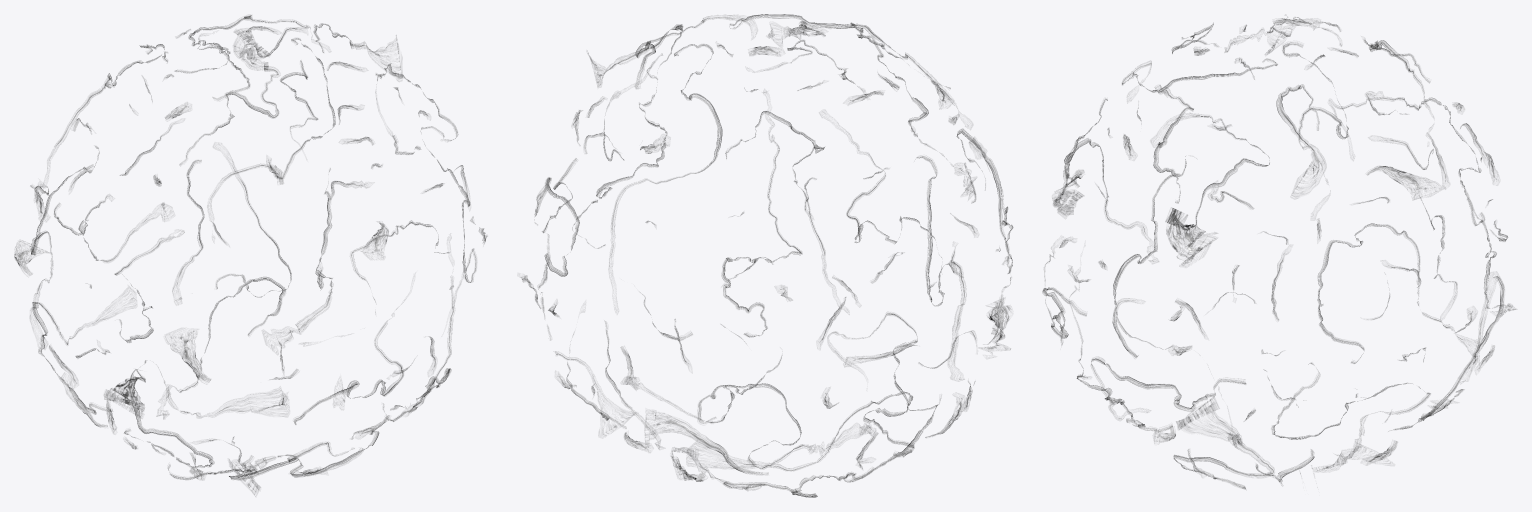
The model's file is mesh_test.mobile.glb.
3 views of the same model, side by side, from view 1: azimuth 30°, elevation 25°; view 2: azimuth 150°, elevation 25°; view 3: azimuth 270°, elevation 25° (orthographic). The views are drawn at different scales.
Visible parts, largest first — view 1: NewNetworkedLineRendererPrefab_1_Clone_; view 2: NewNetworkedLineRendererPrefab_1_Clone_; view 3: NewNetworkedLineRendererPrefab_1_Clone_.
Part boxes in pixels (x1,y1,x2,y2): NewNetworkedLineRendererPrefab_1_Clone_: (14,15,487,494); NewNetworkedLineRendererPrefab_1_Clone_: (521,14,1013,497); NewNetworkedLineRendererPrefab_1_Clone_: (1042,16,1515,489).
Size of the model in its own units: 1.2 by 1.24 by 1.21.
Materials: 1 (1 with a texture image).
